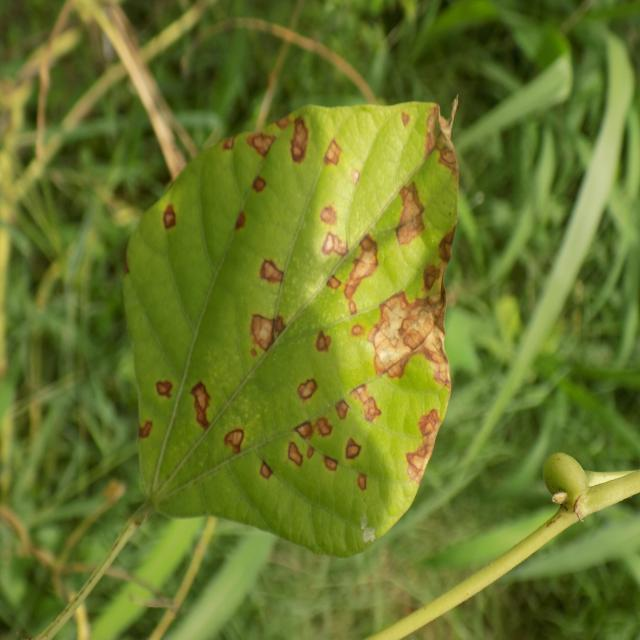Dolicos bean_cercospora leaf spot: (124, 100, 456, 554)
